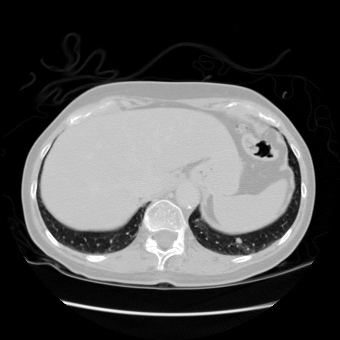nodule: (234, 236, 242, 244)
